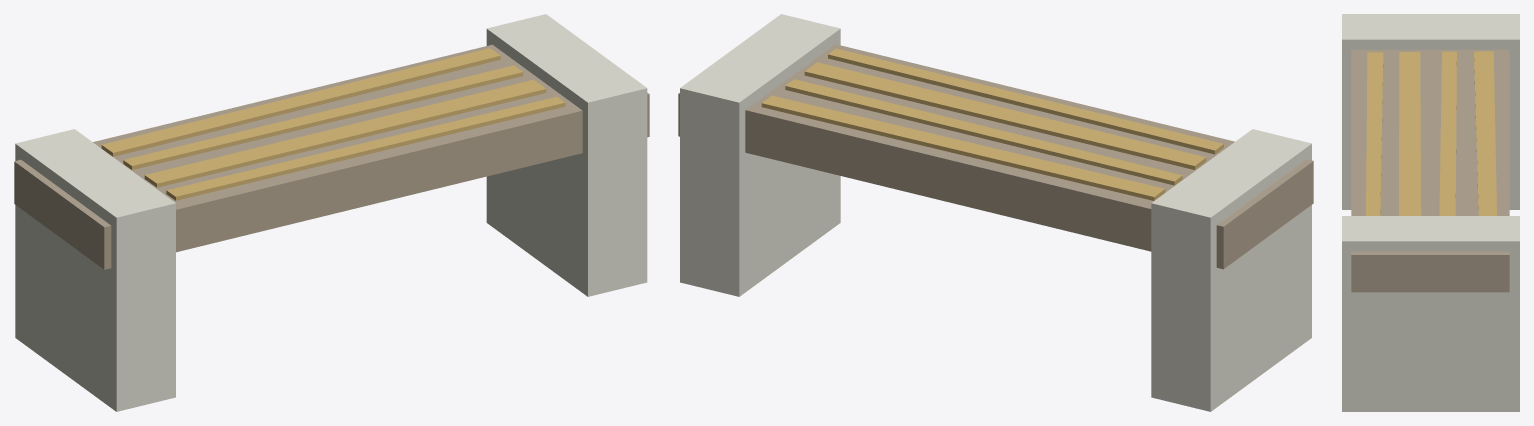
The model's file is props10.fbx.
3 views of the same model, side by side, from view 1: azimuth 30°, elevation 25°; view 2: azimuth 150°, elevation 25°; view 3: azimuth 270°, elevation 25° (orthographic). The views are drawn at different scales.
Parts seen in each view (by area): view 1: Cube_3; view 2: Cube_3; view 3: Cube_3.
Boxes of the visible parts, box(x1,y1,x2,y2) form: Cube_3: box(14, 14, 649, 411); Cube_3: box(678, 14, 1313, 411); Cube_3: box(1342, 14, 1519, 411).
Size of the model in its own units: 200 by 67.9 by 64.22.
